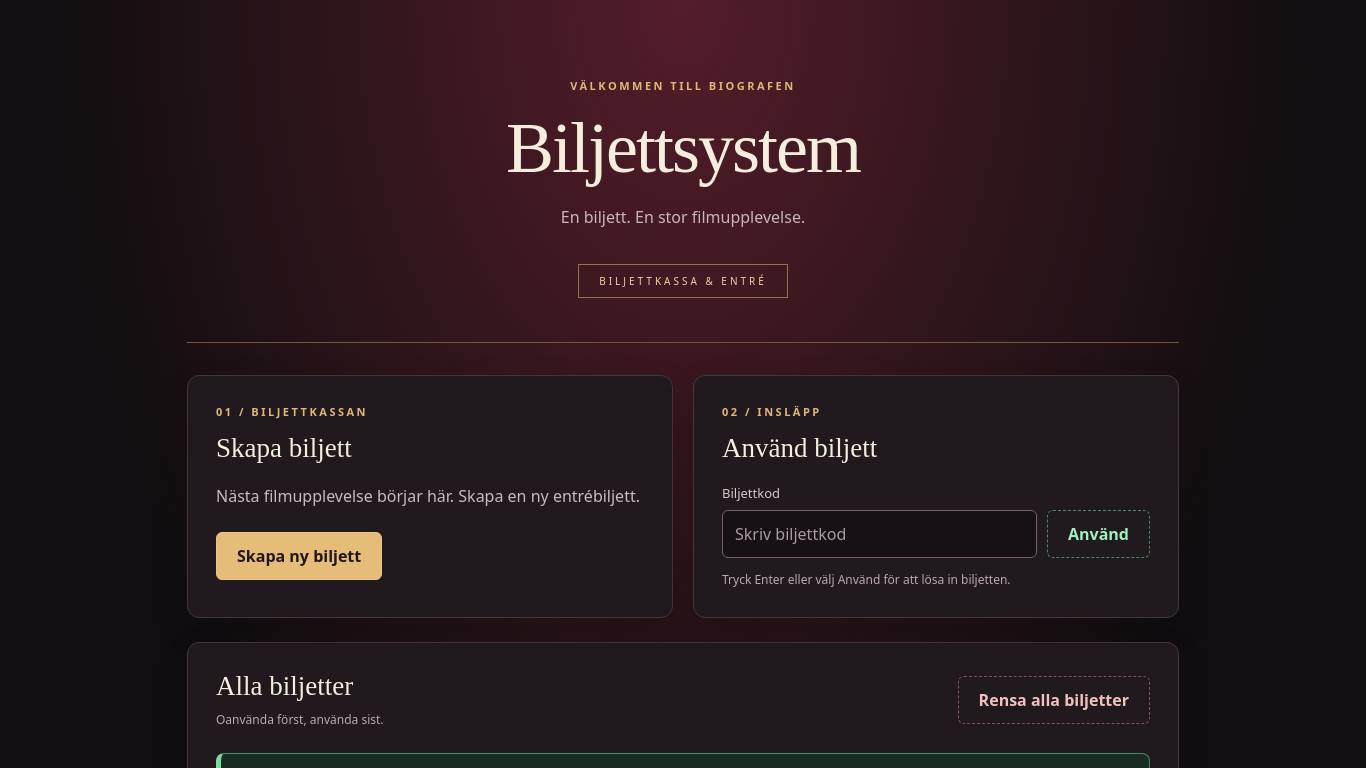
Test: Ticket system › should clear tickets only after confirmation: true
Click the button "Rensa alla biljetter". click: click(1054, 700)
box: [958,676,1150,724]
(page scrolled)
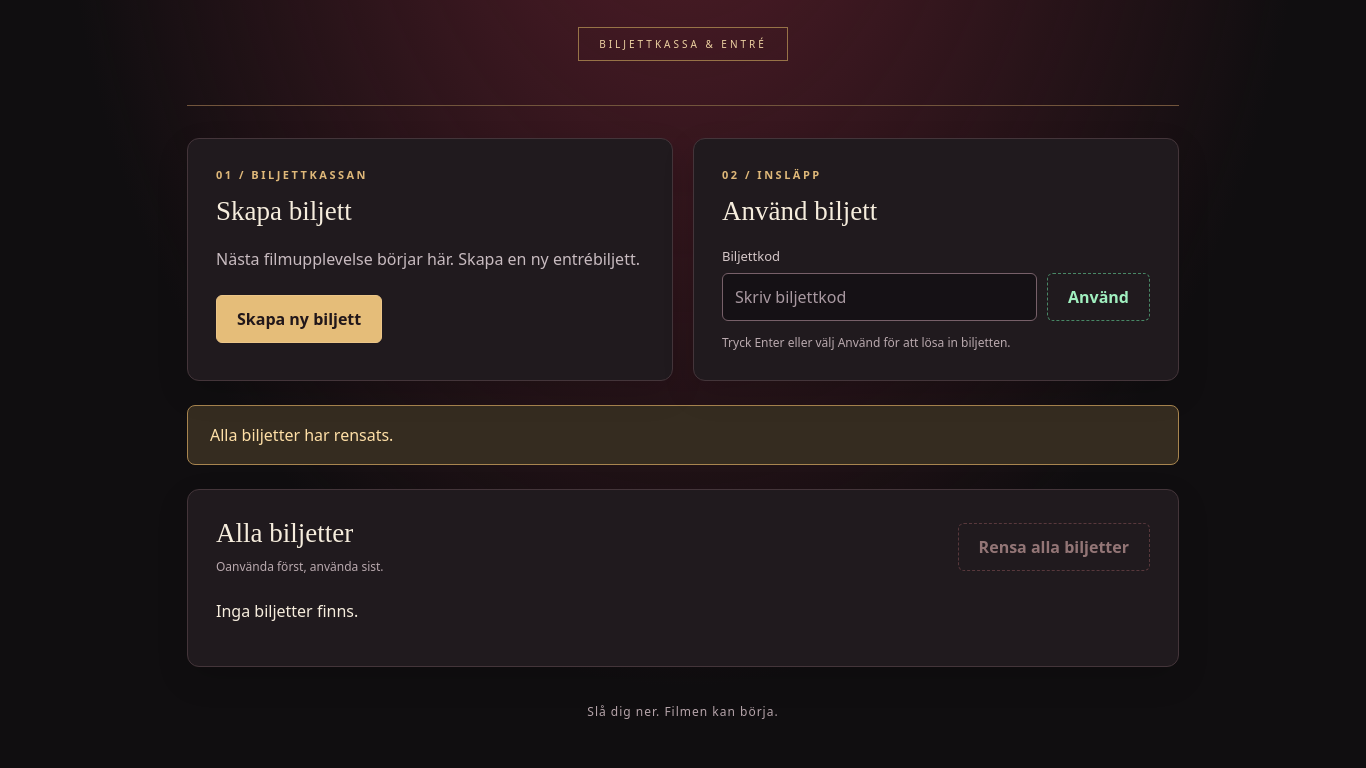
Expected: the text "Inga biljetter finns." is shown, [216,600,358,622]
Expected: the button "Rensa alla biljetter" is disabled, [958,523,1150,571]
